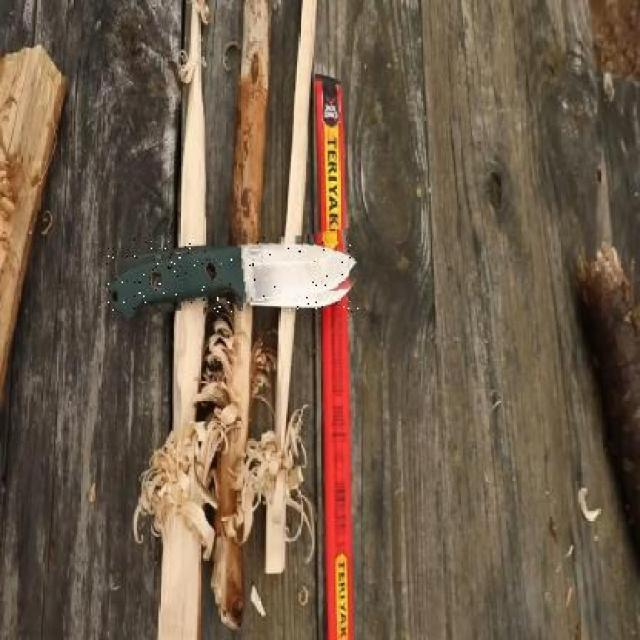knife: (106, 236, 360, 312)
